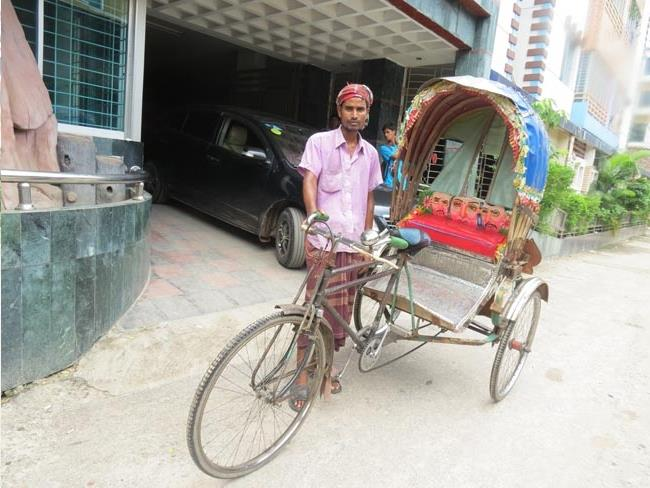Rickshaw: (199, 50, 545, 459)
